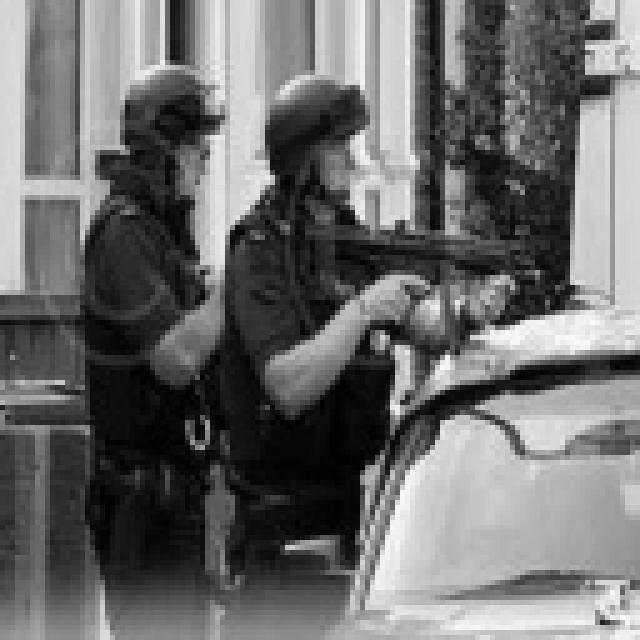Rifle: (262, 162, 548, 379), (81, 124, 247, 478)
